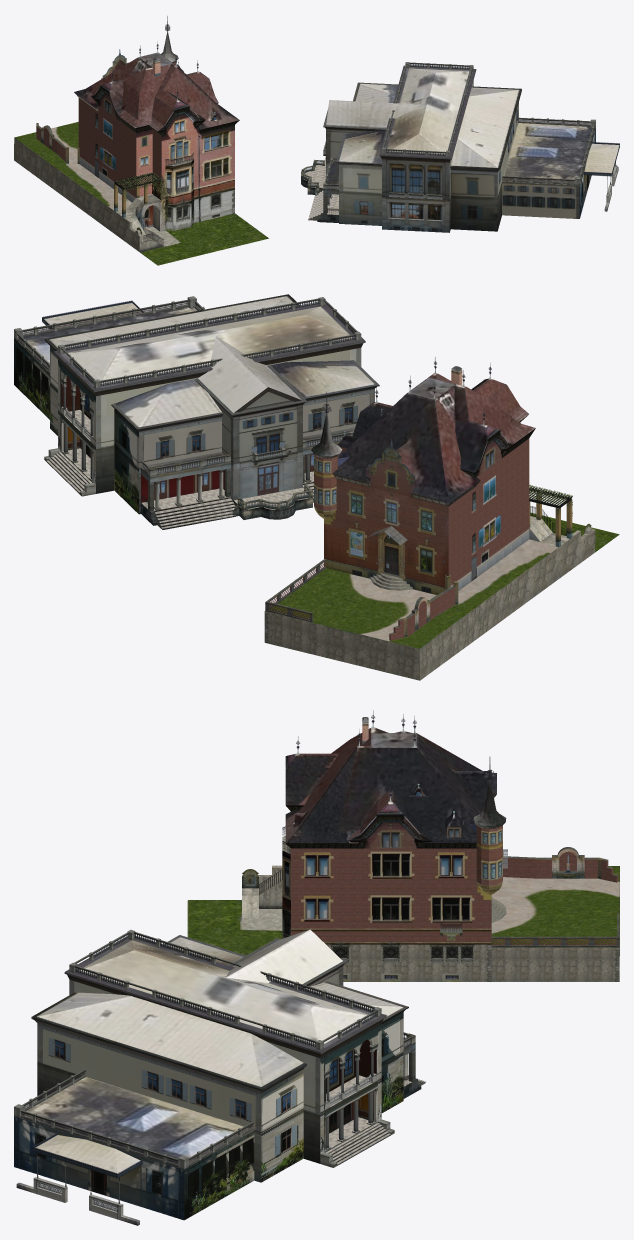
Rendered from european_buildings_asset_pack_4.glb.
The picture shows the model from 3 angles, top to bottom: view 1: azimuth 30°, elevation 25°; view 2: azimuth 150°, elevation 25°; view 3: azimuth 270°, elevation 25°; orthographic projection. The views are drawn at different scales.
Visible parts, largest first — view 1: Object_4, Object_8, Object_10, Object_6; view 2: Object_8, Object_4, Object_6, Object_10; view 3: Object_4, Object_8, Object_6, Object_10.
Part boxes in pixels (<box>): Object_4: <box>301,62,619,232</box>; Object_8: <box>14,32,268,265</box>; Object_10: <box>111,16,215,245</box>; Object_6: <box>302,63,619,214</box>; Object_8: <box>264,366,619,680</box>; Object_4: <box>14,294,379,529</box>; Object_6: <box>18,300,355,508</box>; Object_10: <box>270,357,591,619</box>; Object_4: <box>14,929,425,1225</box>; Object_8: <box>187,717,619,981</box>; Object_6: <box>21,934,412,1211</box>; Object_10: <box>242,710,616,945</box>.
Size of the model in its own units: 48.21 by 15.64 by 37.82.
Materials: 4 (4 with a texture image).
